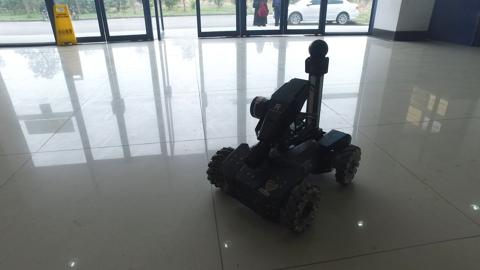car: (269, 1, 360, 26)
chariot: (205, 38, 363, 237)
